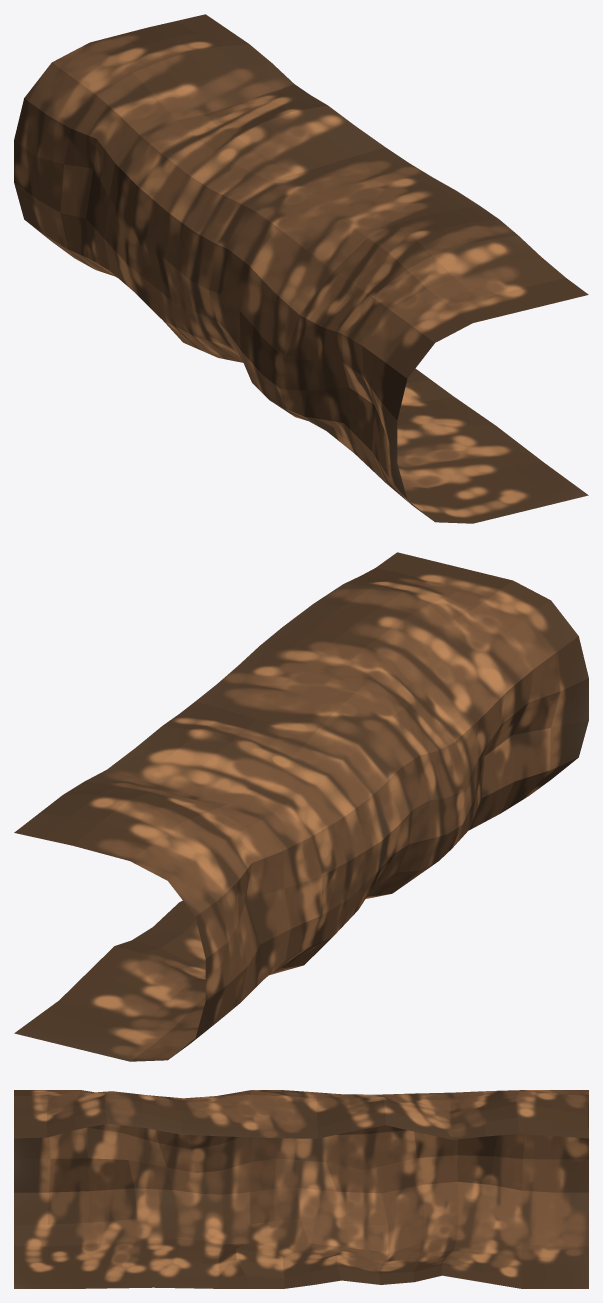
Rendered from Tunnel_piece 1.fbx.
The picture shows the model from 3 angles, top to bottom: view 1: azimuth 30°, elevation 25°; view 2: azimuth 150°, elevation 25°; view 3: azimuth 270°, elevation 25°; orthographic projection. The views are drawn at different scales.
Parts seen in each view (by area): view 1: Cube.001; view 2: Cube.001; view 3: Cube.001.
Boxes of the visible parts, x1,y1,x2,y2 form: Cube.001: (14, 14, 588, 523); Cube.001: (14, 552, 588, 1061); Cube.001: (14, 1090, 588, 1288).
Size of the model in its own units: 2034 by 2315 by 6918.
Materials: 1 (1 with a texture image).
